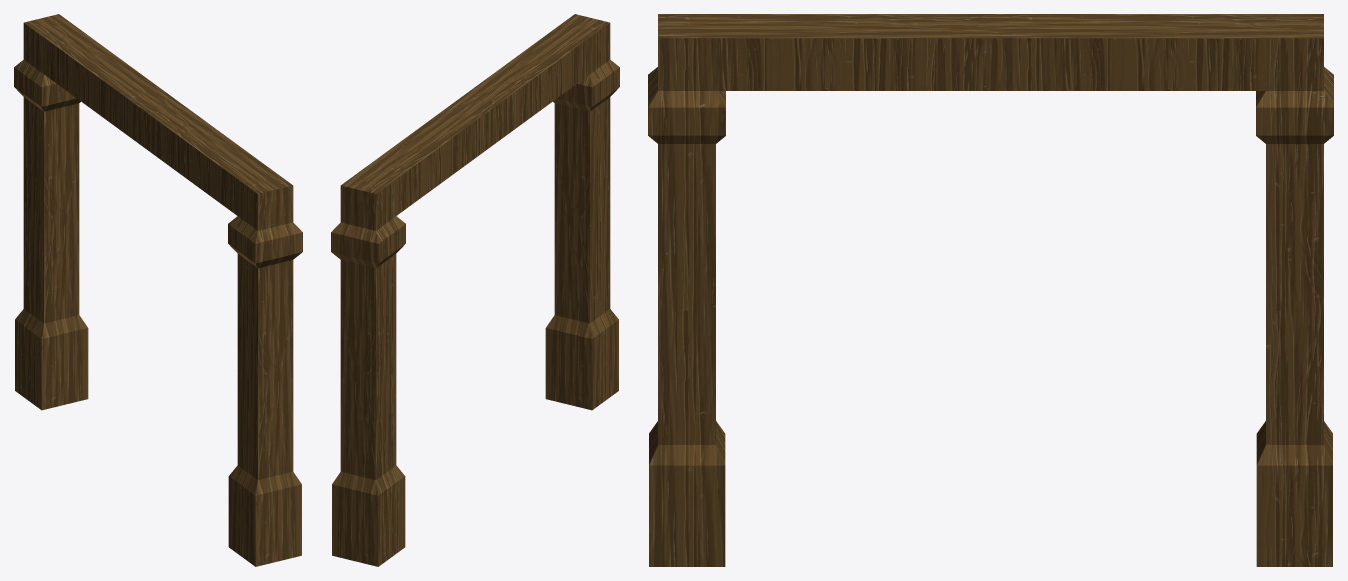
Rendered from Door Frame.glb.
The picture shows the model from 3 angles, left to right: view 1: azimuth 30°, elevation 25°; view 2: azimuth 150°, elevation 25°; view 3: azimuth 270°, elevation 25°; orthographic projection. The views are drawn at different scales.
Parts seen in each view (by area): view 1: Door Frame; view 2: Door Frame; view 3: Door Frame.
Part boxes in pixels (<box>): Door Frame: <box>14,14,302,566</box>; Door Frame: <box>331,14,619,566</box>; Door Frame: <box>648,14,1333,566</box>.
Size of what is drawn, in the model's own units: 1.35 by 10 by 11.85.
1 material, 1 textured.
